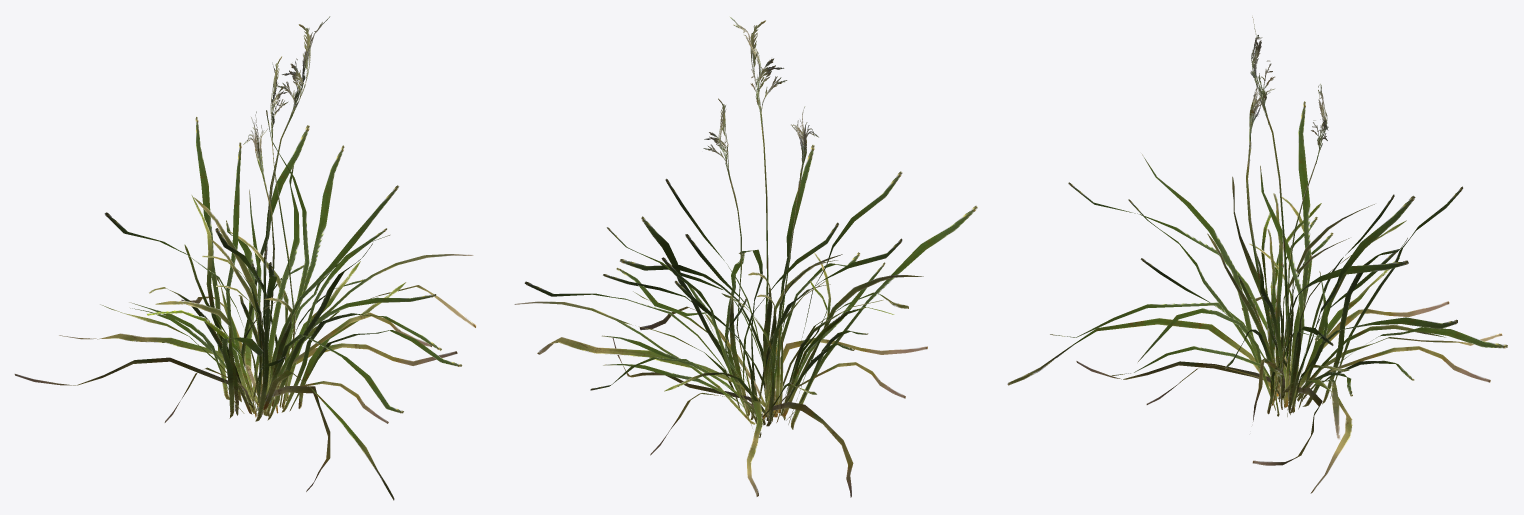
Rendered from grass.obj.
The picture shows the model from 3 angles, left to right: view 1: azimuth 30°, elevation 25°; view 2: azimuth 150°, elevation 25°; view 3: azimuth 270°, elevation 25°; orthographic projection. The views are drawn at different scales.
Parts seen in each view (by area): view 1: grass; view 2: grass; view 3: grass.
Boxes of the visible parts, x1=… form: grass: x1=14, y1=16, x2=476, y2=500; grass: x1=514, y1=16, x2=977, y2=497; grass: x1=1007, y1=17, x2=1507, y2=493.
Bounding box in the file's own units: 1.06 × 1 × 1.13.
Materials: 1 (1 with a texture image).
